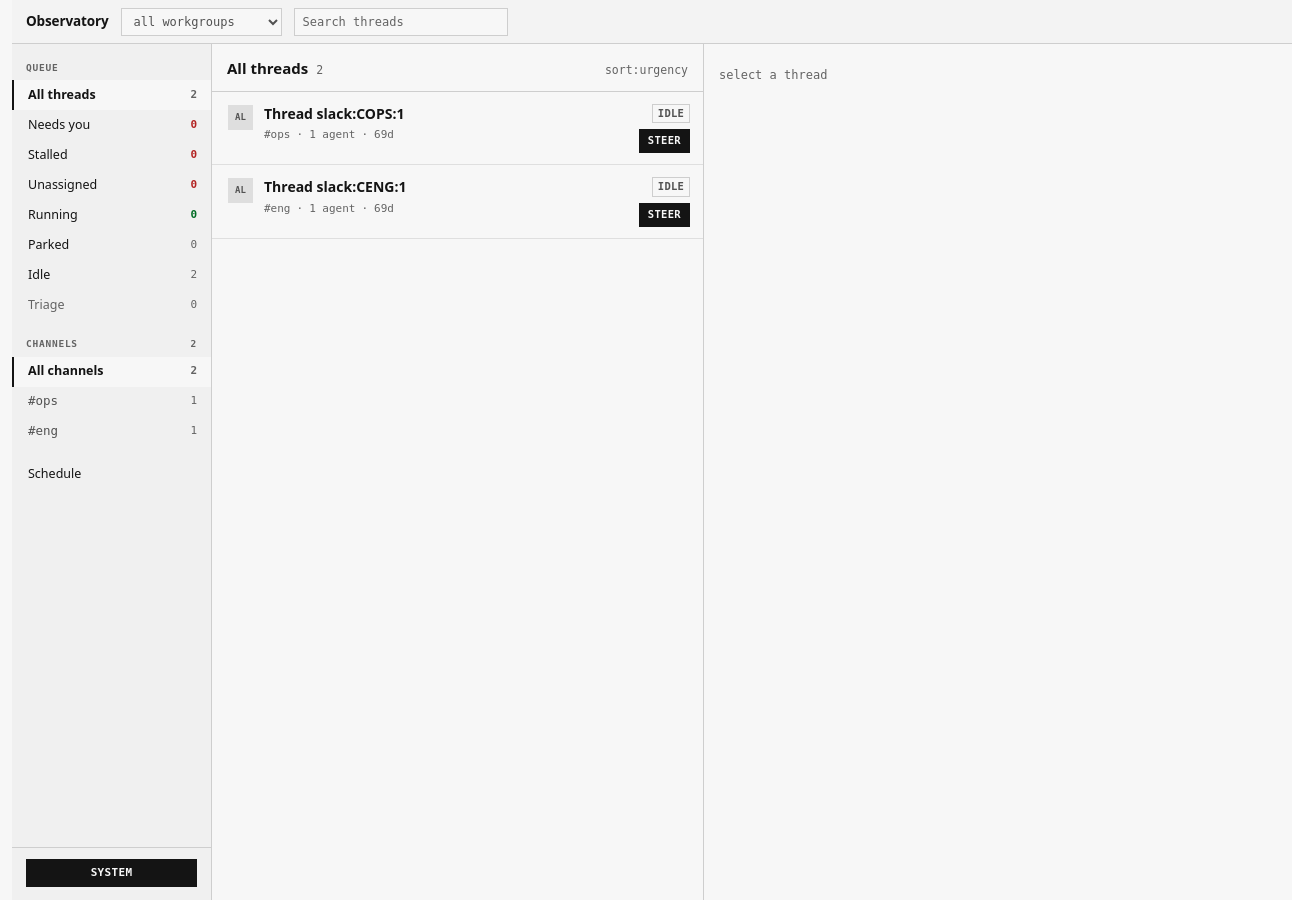
Test: channels group on the parsed channel key (§3.2) › filters the list to the picked channel
Expected: the number of list items with class "ncc-row" is 2, [212,92,703,165]; [212,165,703,239]
Click the button with class "channel" showing "#ops 1" at (112,402), box [12,386,211,416]
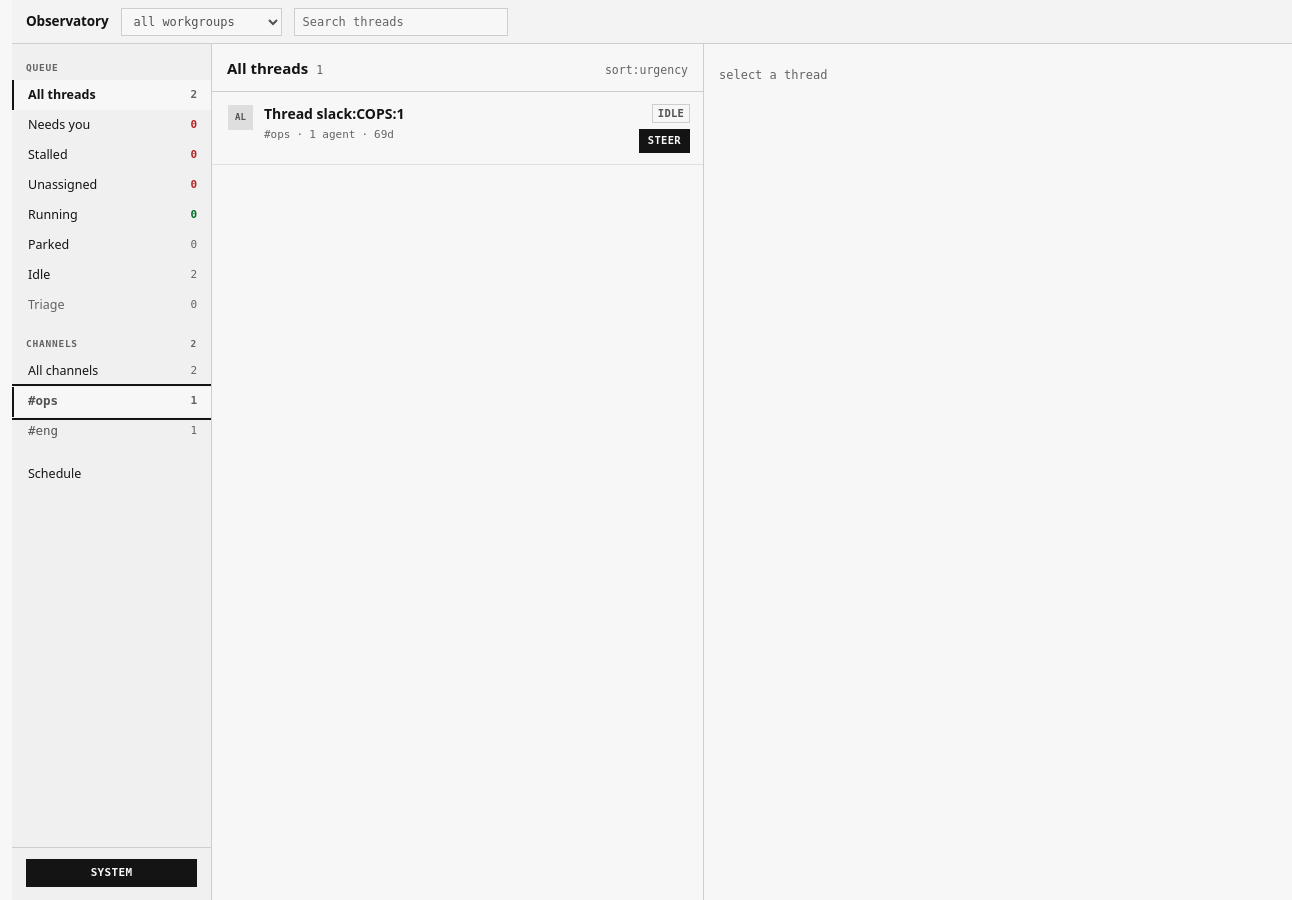
Expected: the number of list items with class "ncc-row" is 1, [212,92,703,165]
